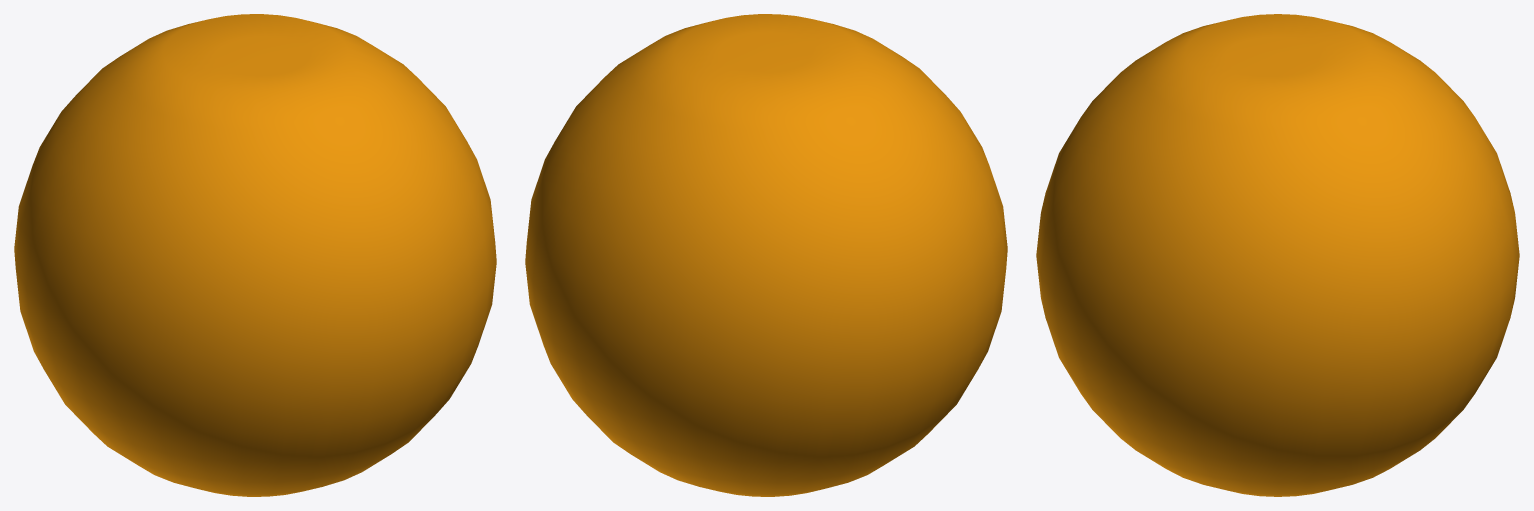
Rendered from Orange.fbx.
3 views of the same model, side by side, from view 1: azimuth 30°, elevation 25°; view 2: azimuth 150°, elevation 25°; view 3: azimuth 270°, elevation 25° (orthographic).
Visible parts, largest first — view 1: Sphere; view 2: Sphere; view 3: Sphere.
Part boxes in pixels (x1,y1,x2,y2): Sphere: (14,14,496,496); Sphere: (525,14,1007,496); Sphere: (1036,14,1519,496).
Bounding box in the file's own units: 200 × 193 × 200.
